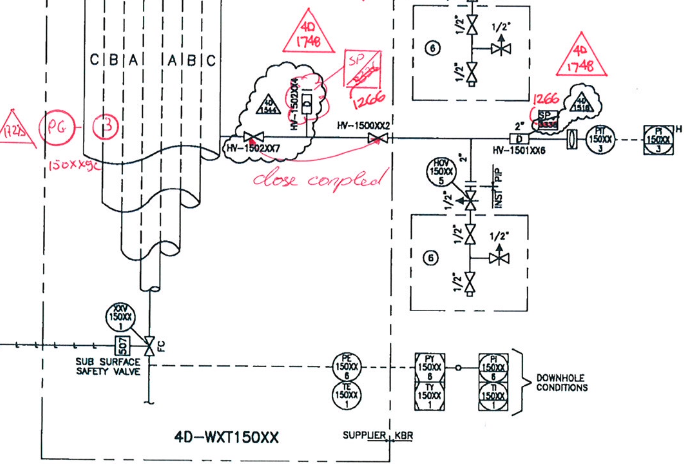Instrument: (582, 124, 623, 157), (329, 347, 366, 383), (423, 151, 457, 189), (104, 297, 136, 335), (330, 381, 365, 414)
Instrument-square: (639, 120, 677, 158), (477, 382, 512, 417), (411, 381, 448, 414), (476, 350, 510, 383), (413, 350, 447, 383)
